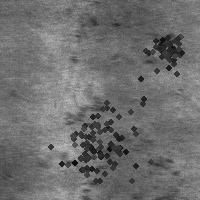rolled-in_scale: (61, 100, 180, 199), (50, 72, 158, 180), (47, 115, 125, 193), (72, 14, 177, 65), (138, 22, 194, 78)
